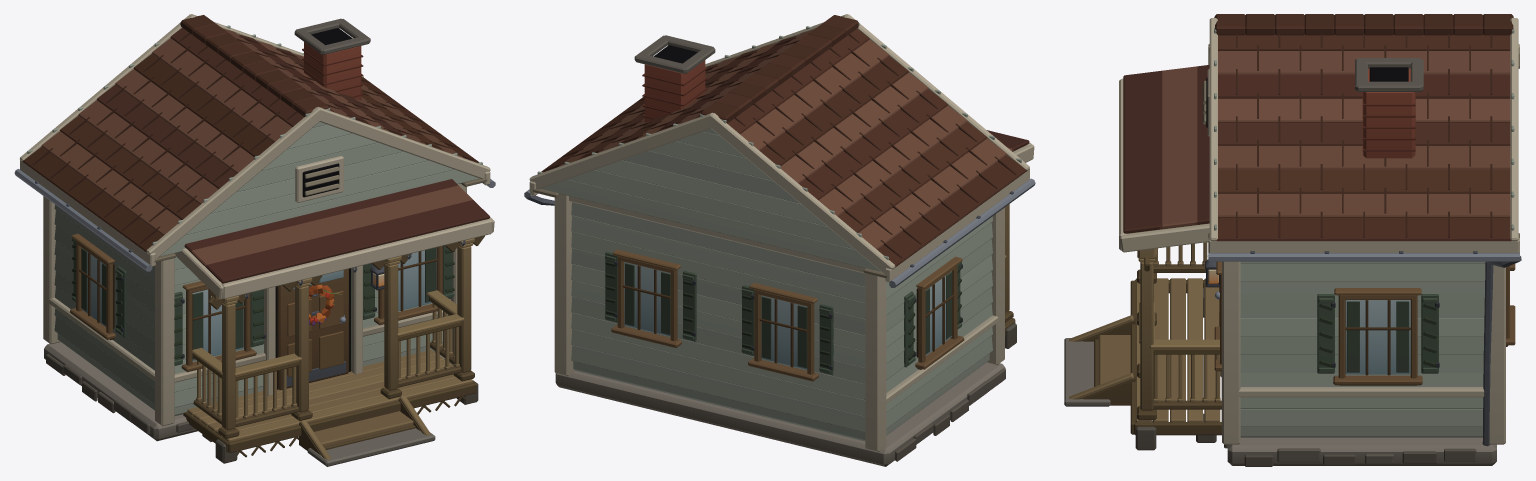
Rendered from porch-house-front-01.glb.
3 renders of one model, left to right at view 1: azimuth 30°, elevation 25°; view 2: azimuth 150°, elevation 25°; view 3: azimuth 270°, elevation 25°, orthographic. The views are drawn at different scales.
Parts seen in each view (by area): view 1: porch_house_front_01; view 2: porch_house_front_01; view 3: porch_house_front_01.
Part boxes in pixels (bbox=[...]): porch_house_front_01: bbox=[14, 14, 495, 466]; porch_house_front_01: bbox=[524, 14, 1035, 466]; porch_house_front_01: bbox=[1064, 14, 1521, 466].
Bounding box in the file's own units: 5.17 × 4.26 × 4.93.
